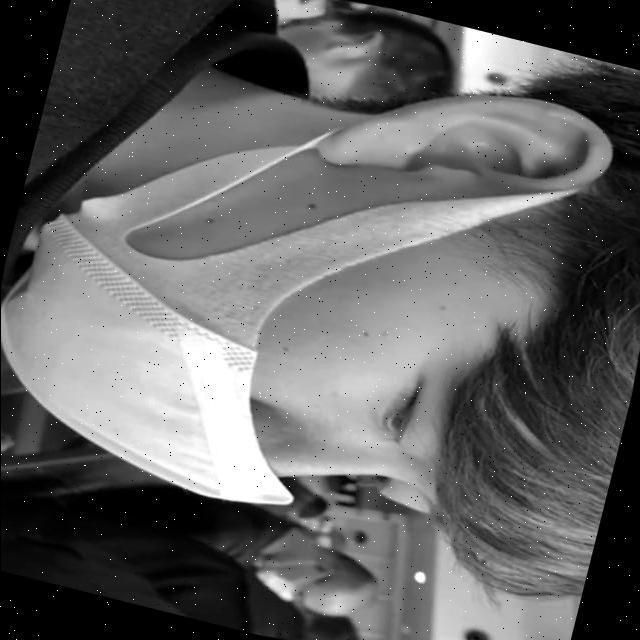mask: (0, 267, 254, 486)
no_gloves: (528, 142, 630, 546)
